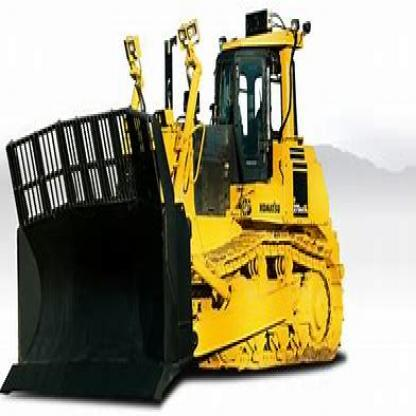bull_dozer/loader/grader: (2, 9, 350, 402)
